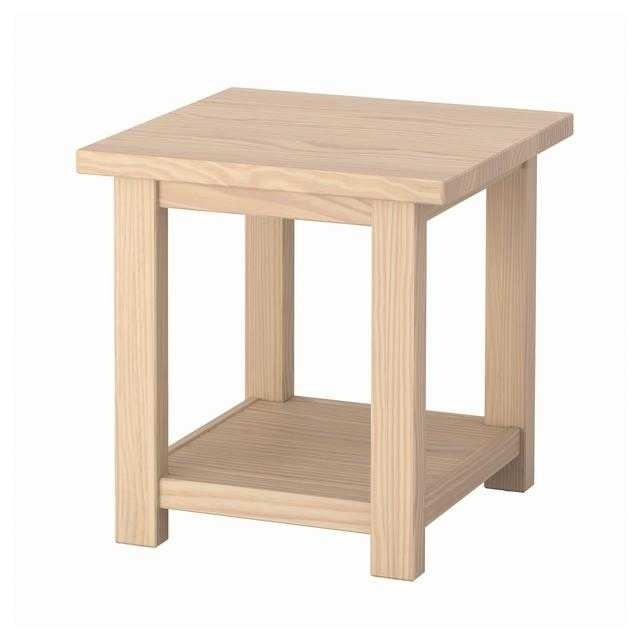obstacle: (77, 88, 572, 579)
